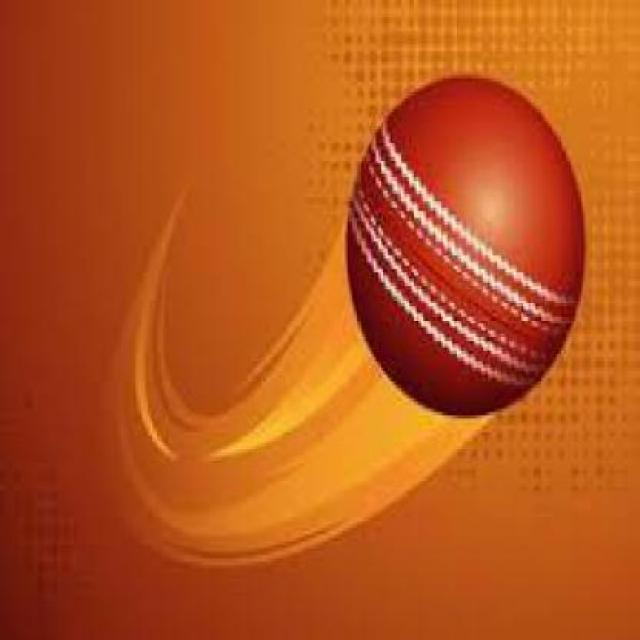ball: (328, 39, 602, 423)
